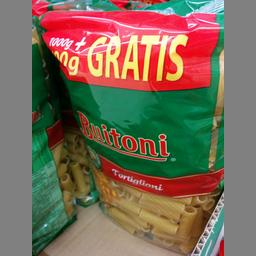pasta: (39, 0, 222, 253)
